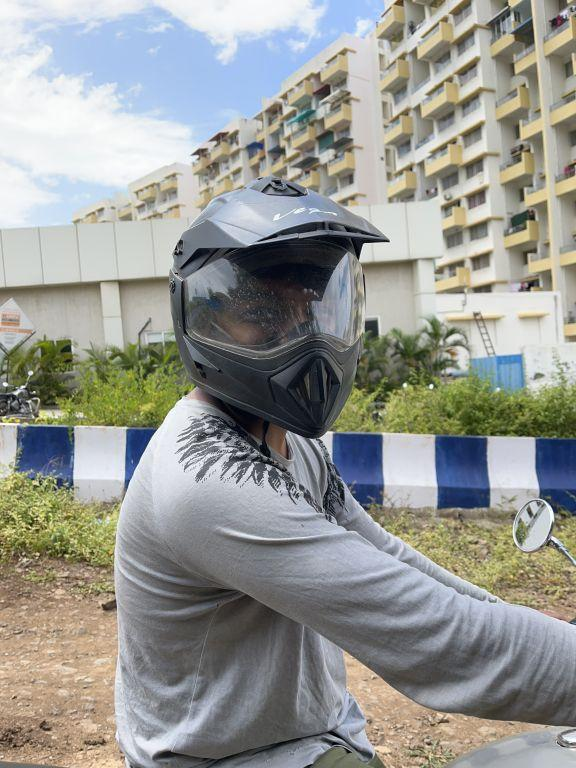helmet: (162, 154, 396, 447)
